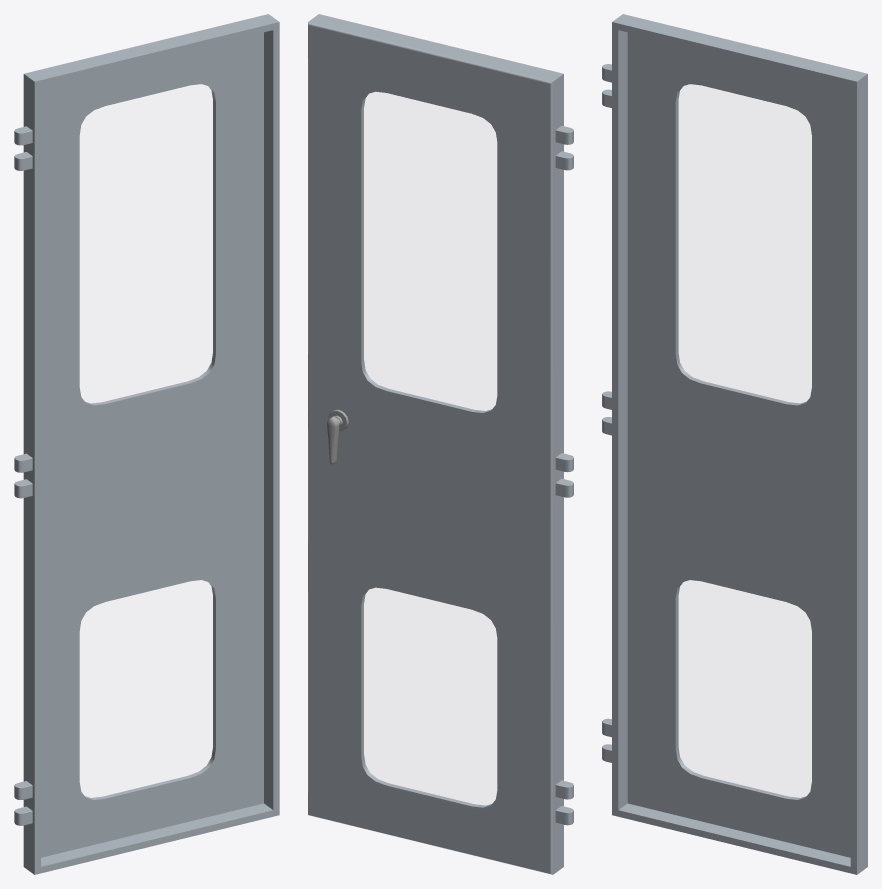
Rendered from MOF_BACK_DOOR2.fbx.
The picture shows the model from 3 angles, left to right: view 1: azimuth 30°, elevation 25°; view 2: azimuth 150°, elevation 25°; view 3: azimuth 330°, elevation 25°; orthographic projection.
Parts seen in each view (by area): view 1: MOF_BACK_DOOR1; view 2: MOF_BACK_DOOR1; view 3: MOF_BACK_DOOR1.
Part boxes in pixels (x1,y1,x2,y2): MOF_BACK_DOOR1: (14,14,279,874); MOF_BACK_DOOR1: (308,14,573,874); MOF_BACK_DOOR1: (602,14,867,874).
Size of the model in its own units: 0.6334 by 1.85 by 0.0875.
Materials: 2 (1 with a texture image).
